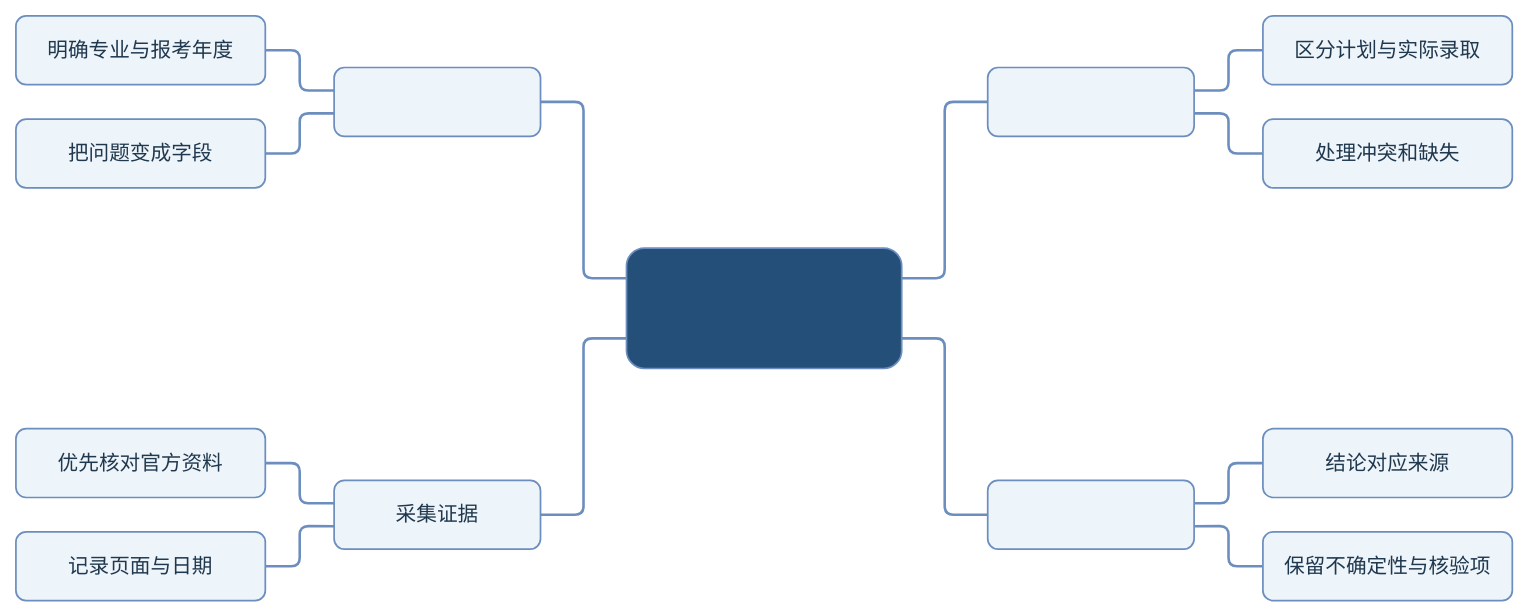
Image size: 1527x616. Some labels were removed from this diagram. The box of each missing label's shape, as (x1, y1, x2, y2) in pixels:
定义问题: (333, 66, 541, 137)
形成报告: (986, 479, 1195, 550)
检查口径: (986, 66, 1195, 137)
第7章 深度调研与专业分析: (625, 247, 902, 369)
